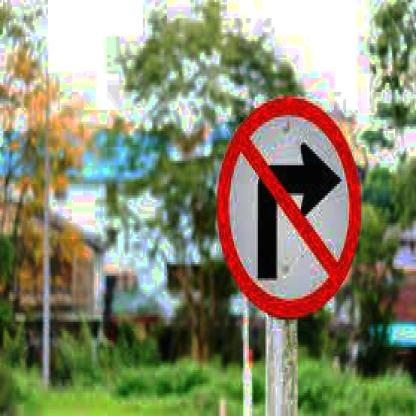No right turn: (214, 86, 366, 328)
